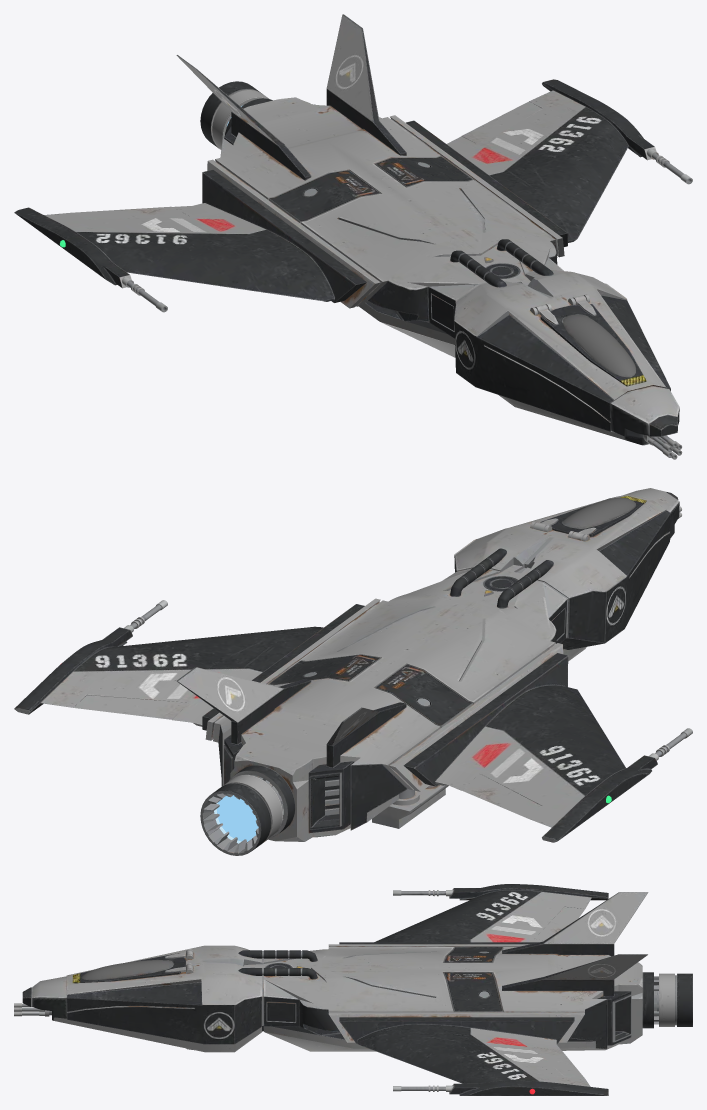
The model's file is skiff.glb.
The picture shows the model from 3 angles, top to bottom: view 1: azimuth 30°, elevation 25°; view 2: azimuth 150°, elevation 25°; view 3: azimuth 270°, elevation 25°; orthographic projection. The views are drawn at different scales.
Visible parts, largest first — view 1: skiff; view 2: skiff; view 3: skiff.
Part boxes in pixels (bbox=[...]): skiff: bbox=[14, 14, 692, 459]; skiff: bbox=[14, 488, 692, 855]; skiff: bbox=[14, 884, 692, 1095].
Size of the model in its own units: 6.66 by 1.85 by 9.3.
5 materials, 1 textured.
